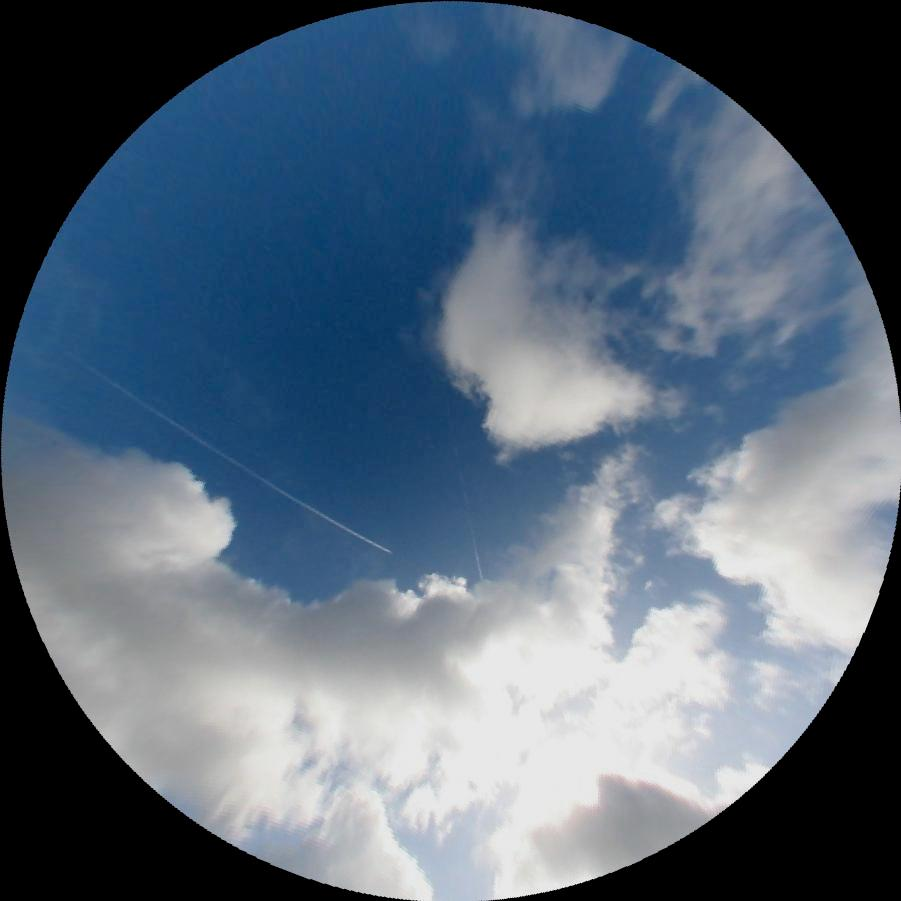contrail young: (82, 364, 392, 558), (461, 486, 483, 579)
